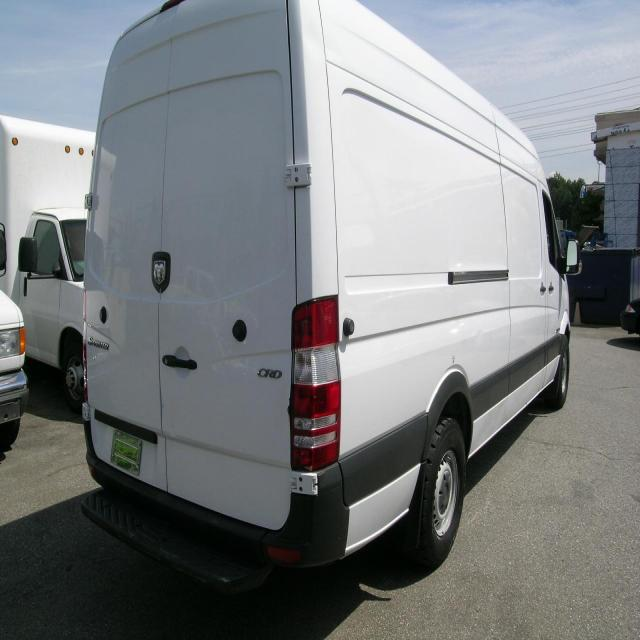Van: (89, 2, 609, 595)
